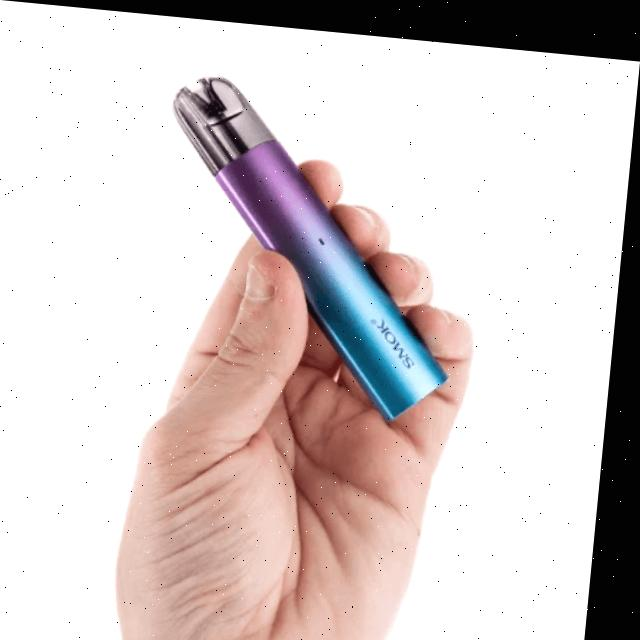vape: (147, 67, 474, 419)
